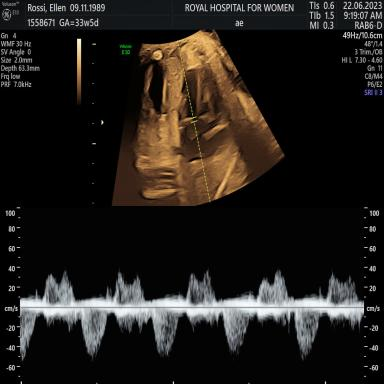Ultrasound-Waves: (24, 216, 361, 384)
